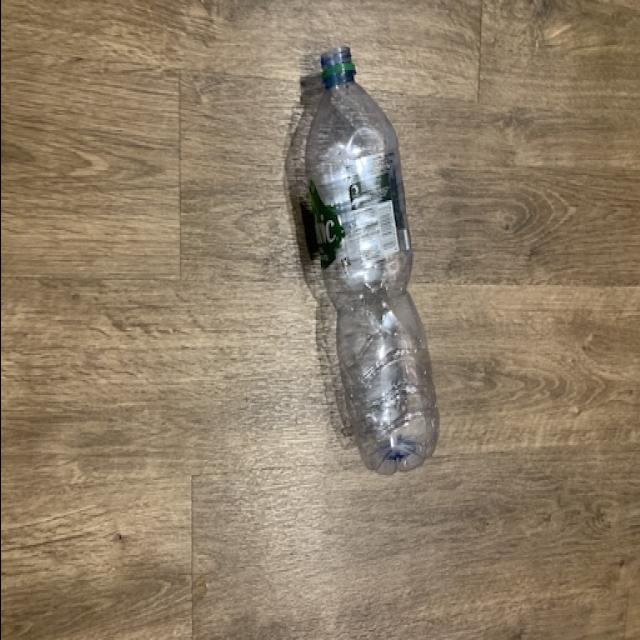PET: (300, 41, 441, 476)
